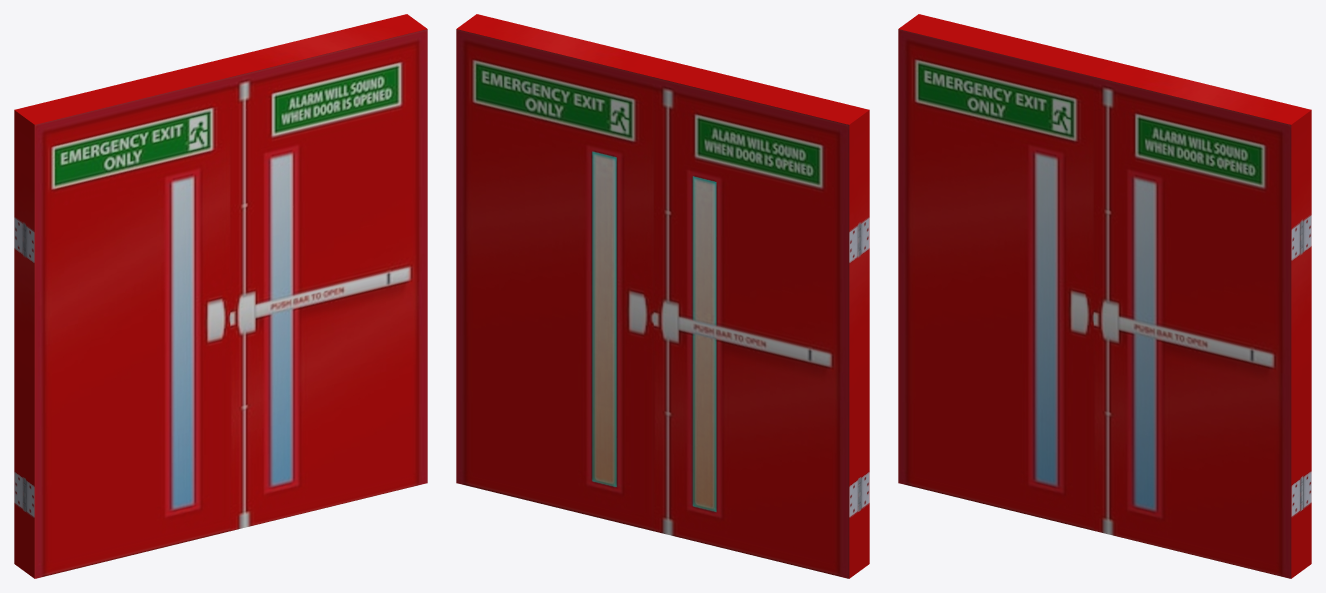
File: Puerta_F_VC.fbx
3 renders of one model, left to right at view 1: azimuth 30°, elevation 25°; view 2: azimuth 150°, elevation 25°; view 3: azimuth 330°, elevation 25°, orthographic.
Visible parts, largest first — view 1: Puerta1_F_VC, Puerta2_F_VC; view 2: Puerta1_F_VC, Puerta2_F_VC; view 3: Puerta2_F_VC, Puerta1_F_VC.
Boxes of the visible parts, x1,y1,x2,y2 form: Puerta1_F_VC: (14,62,230,578); Puerta2_F_VC: (210,14,427,531); Puerta1_F_VC: (653,62,869,578); Puerta2_F_VC: (456,14,673,531); Puerta2_F_VC: (1093,61,1311,578); Puerta1_F_VC: (898,14,1113,530).
Bounding box in the file's own units: 408 × 451 × 36.97.
2 materials, 2 textured.
